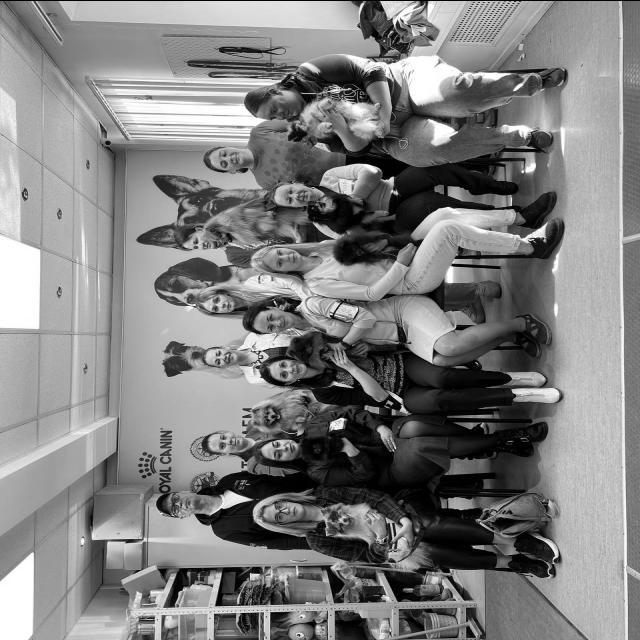Dogs: (205, 190, 306, 246), (286, 94, 384, 148), (286, 329, 376, 370), (300, 425, 396, 463), (302, 192, 402, 225), (248, 390, 324, 432), (321, 498, 390, 544), (332, 228, 408, 266)
